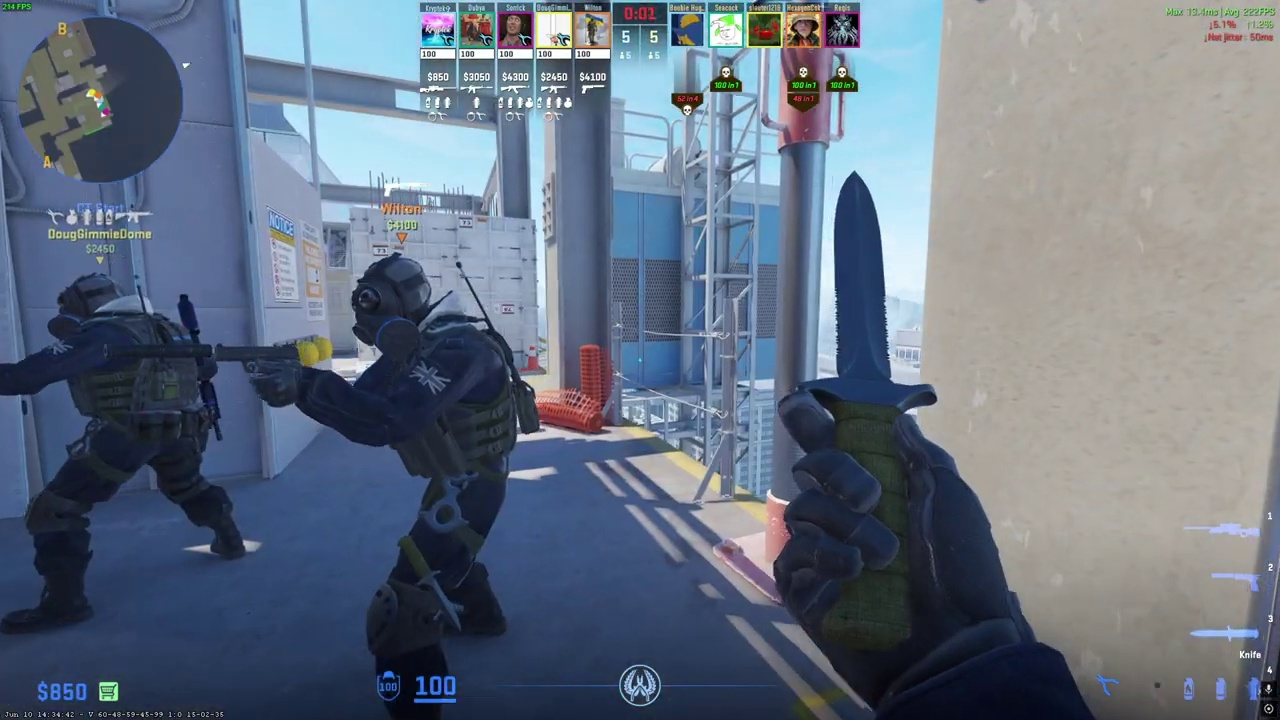CT: (332, 255, 520, 719), (0, 272, 239, 636)
